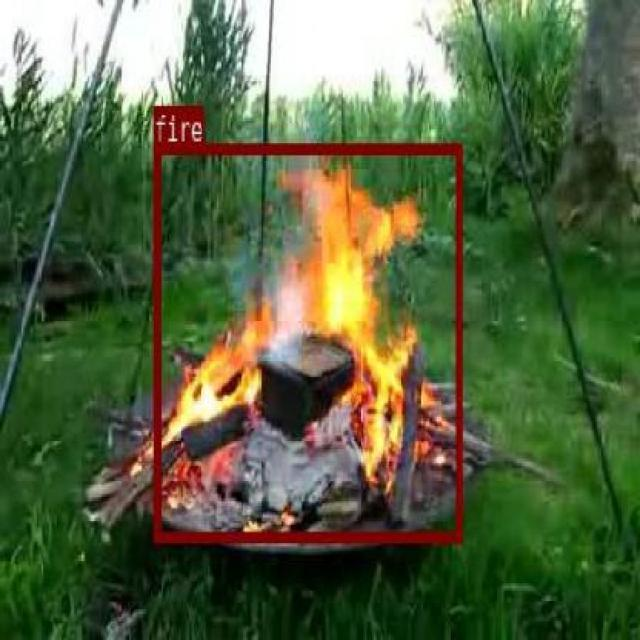Fire: (153, 142, 461, 541)
